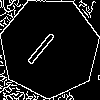I: (24, 23, 64, 67)
